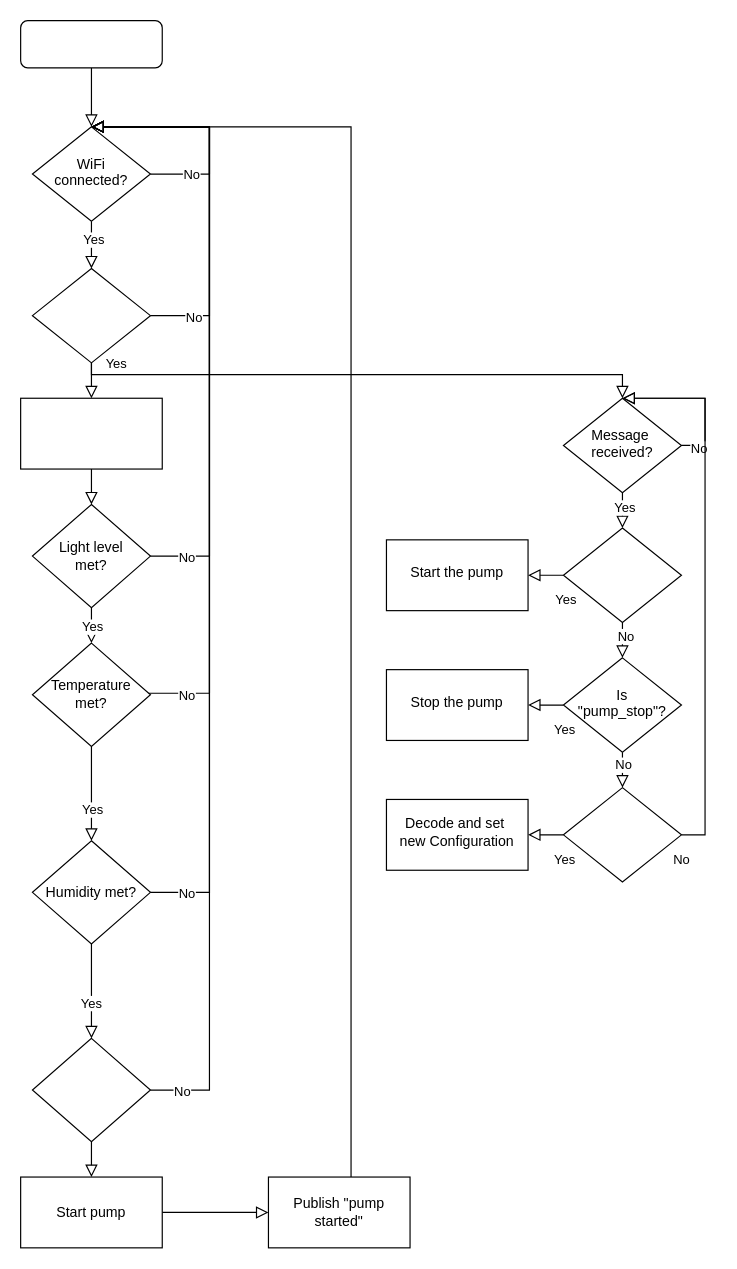
The diagram is 737 pixels wide and 1269 high, and some of its shapes have lost their labels. Here are the shapes that lost their labels. From the top down, the centre of each, then its label:
point (90, 43): ESP module boots
point (90, 315): MQTT connected?
point (90, 433): Publish sensor data
point (621, 574): Is "pump"?
point (621, 834): Is message JSON?
point (90, 1089): Moisture is dry?
